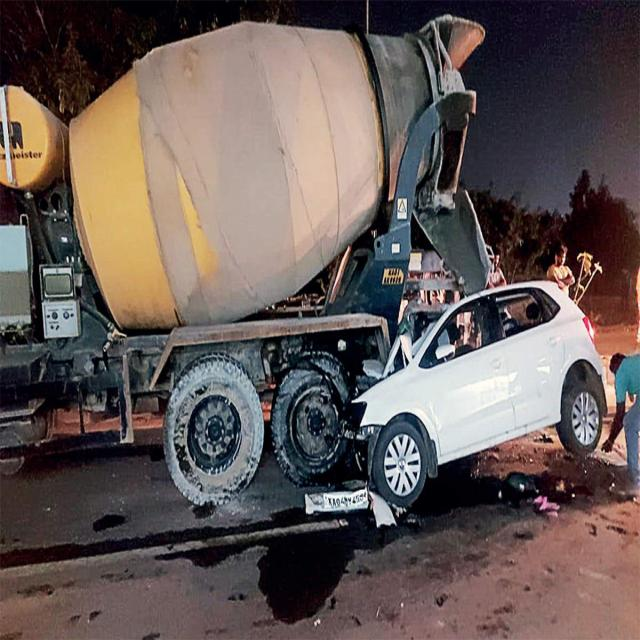accident: (306, 282, 606, 525)
truck: (0, 15, 490, 506)
